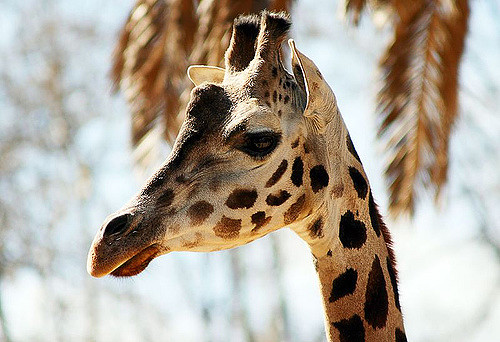giraffe: (95, 9, 410, 329)
